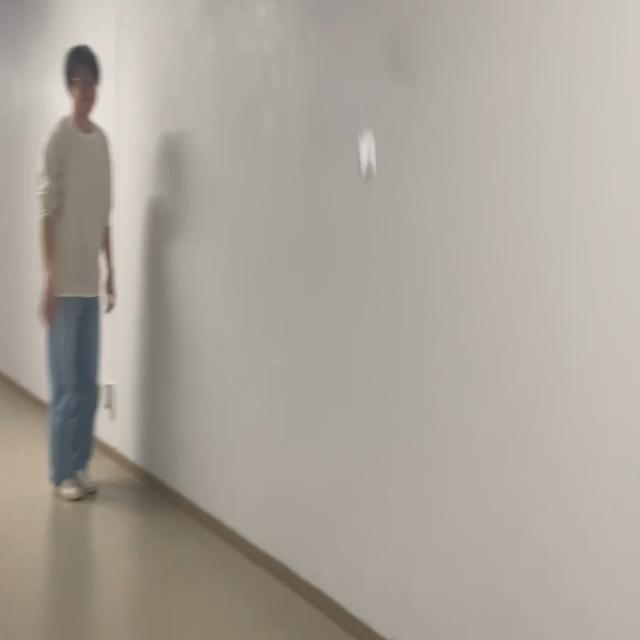paper: (355, 126, 379, 187)
